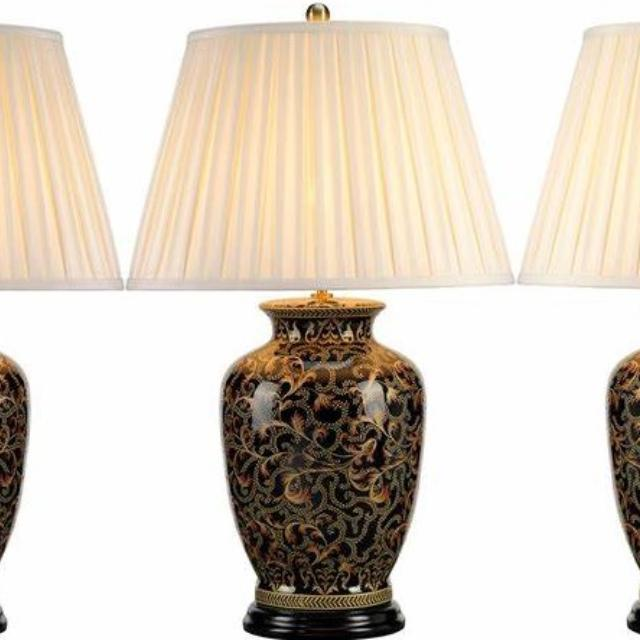lamp: (124, 6, 516, 639)
